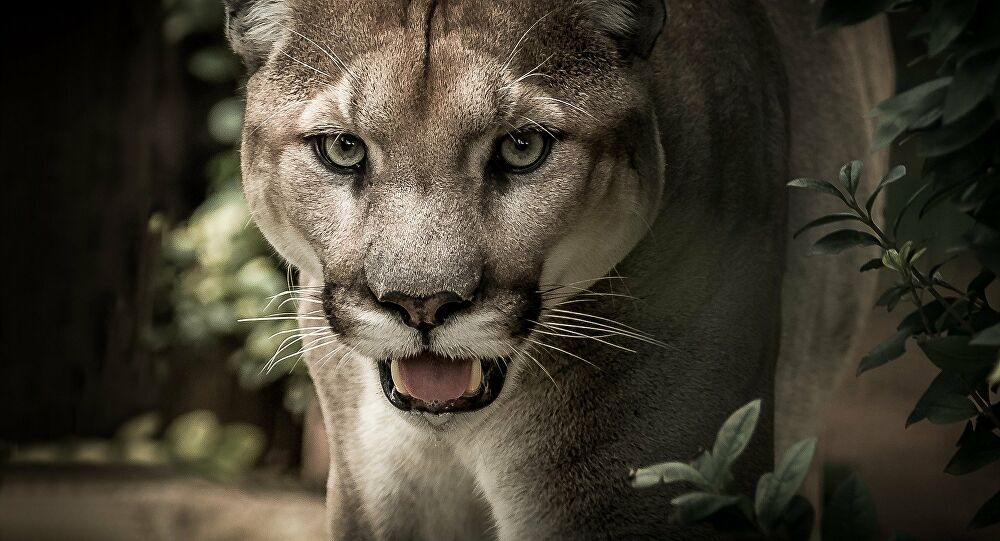OncaParda: (211, 1, 886, 538)
